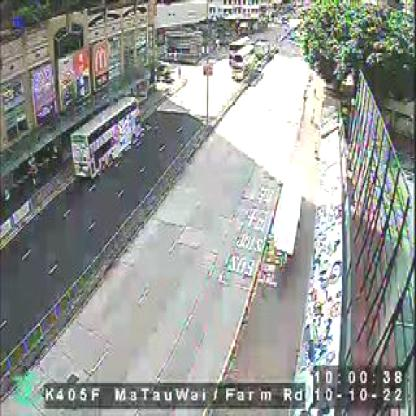Bus: (72, 97, 136, 190), (232, 44, 254, 82)
